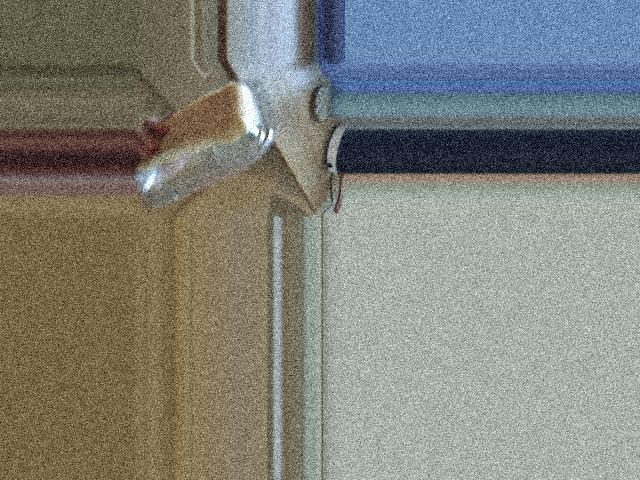cheese: (184, 96, 262, 186)
